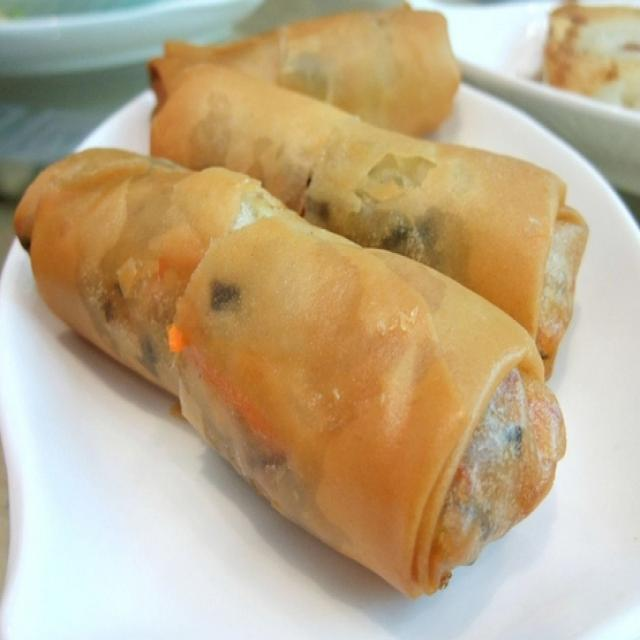炸货点心: (45, 32, 616, 580)
